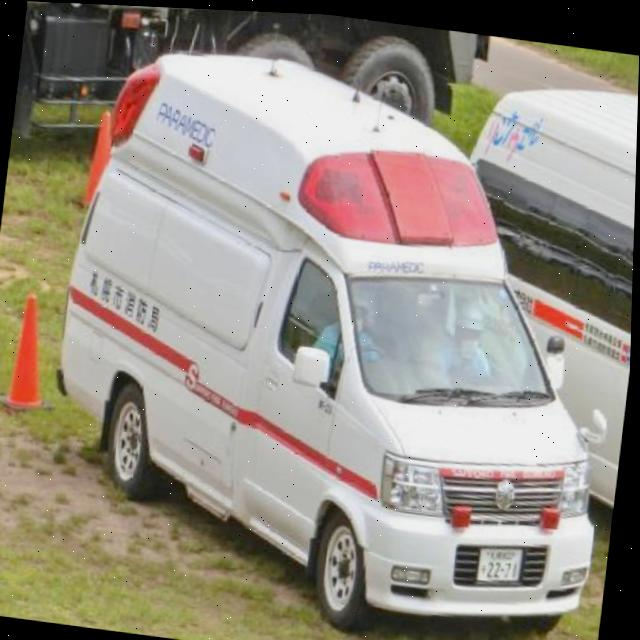emergency: (31, 29, 639, 640)
